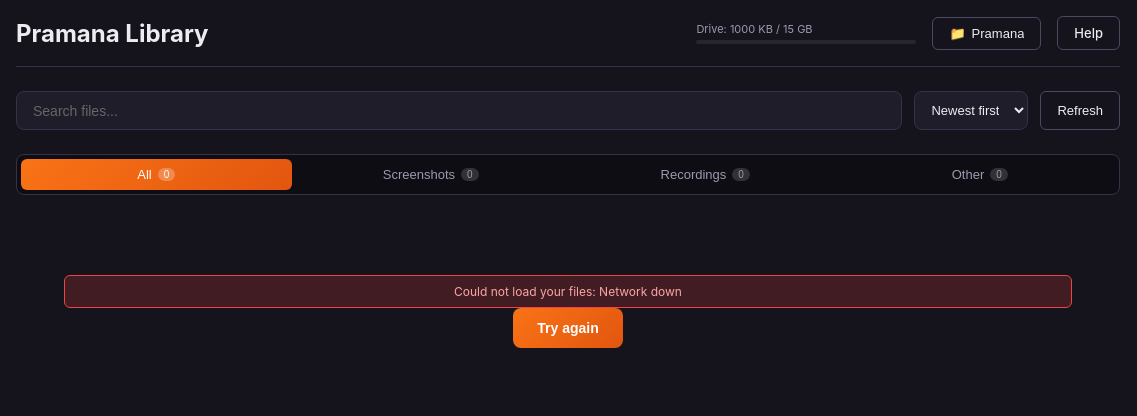
Scenario: Dashboard App › shows the error and lets the user retry when loading fails
Check: the text "Could not load your files: Network down" is shown, box [64, 275, 1072, 308]
Click the button "Try again": (568, 328) [513, 308, 623, 348]
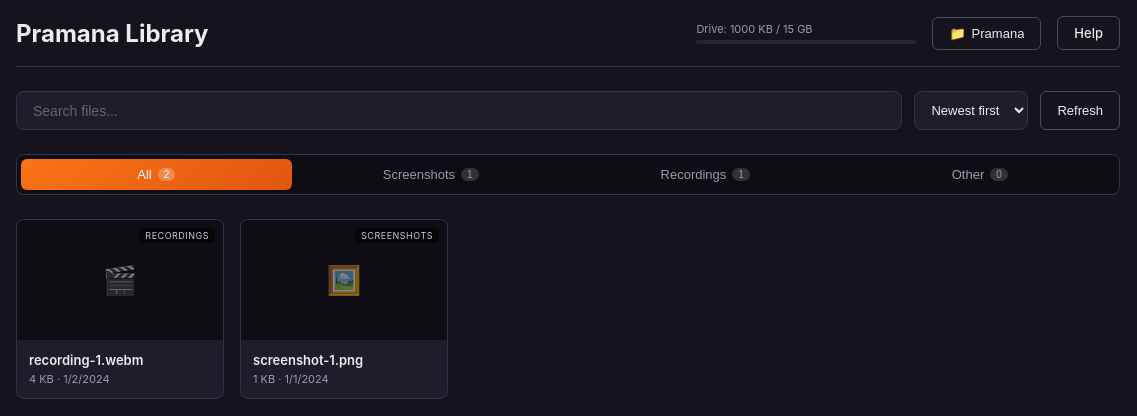
Check: the heading "screenshot-1.png" is shown, box [253, 352, 363, 368]
